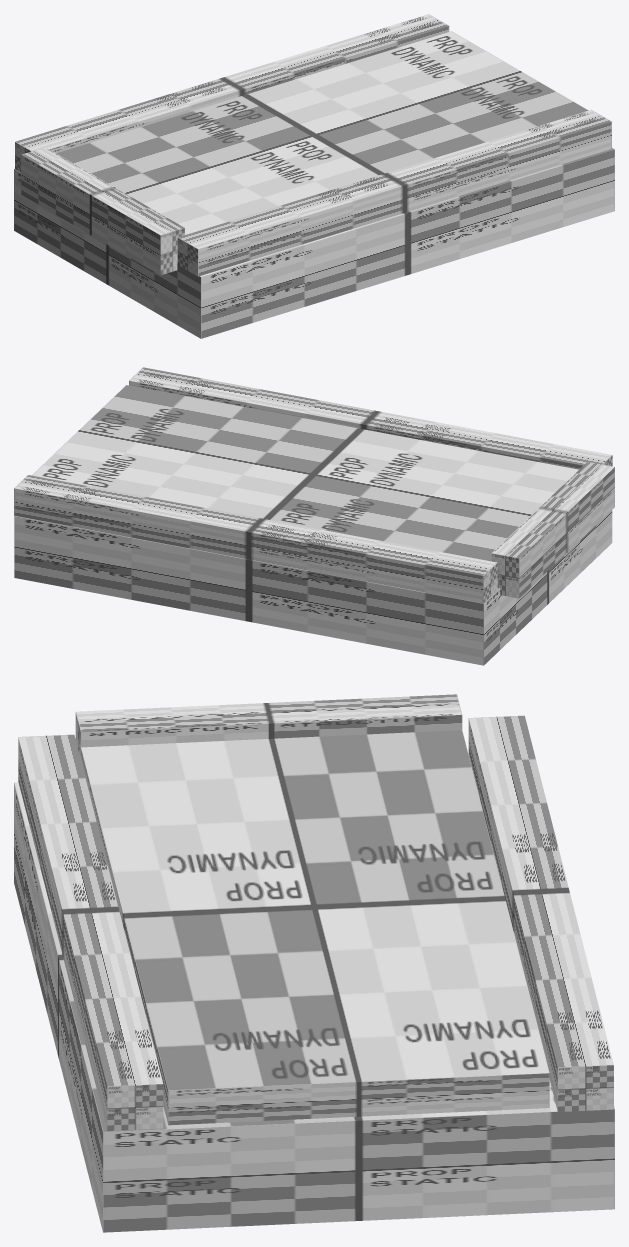
Rendered from Moveavle Plate test (1).fbx.
3 renders of one model, top to bottom at view 1: azimuth 30°, elevation 25°; view 2: azimuth 150°, elevation 25°; view 3: azimuth 270°, elevation 25°, orthographic. The views are drawn at different scales.
Parts seen in each view (by area): view 1: moveable_plate, Moveavle_Plate_test__1_, Cube__30_, Cube__29_, moveable_plate__1_; view 2: moveable_plate, Moveavle_Plate_test__1_, Cube__29_, Cube__30_, moveable_plate__1_; view 3: moveable_plate, Moveavle_Plate_test__1_, Cube__30_, Cube__29_, moveable_plate__1_.
Part boxes in pixels (x1,y1,x2,y2): moveable_plate: (56,31,588,253); Moveavle_Plate_test__1_: (14,148,614,338); Cube__30_: (177,109,611,276); Cube__29_: (15,14,449,172); moveable_plate__1_: (21,147,184,275); moveable_plate: (32,385,578,585); Moveavle_Plate_test__1_: (14,510,612,665); Cube__29_: (14,475,497,603); Cube__30_: (129,367,612,469); moveable_plate__1_: (491,462,614,598); moveable_plate: (79,730,549,1125); Moveavle_Plate_test__1_: (14,782,614,1232); Cube__30_: (18,734,163,1130); Cube__29_: (468,715,613,1111); moveable_plate__1_: (75,694,462,752).
Size of the model in its own units: 448 by 83.83 by 296.
